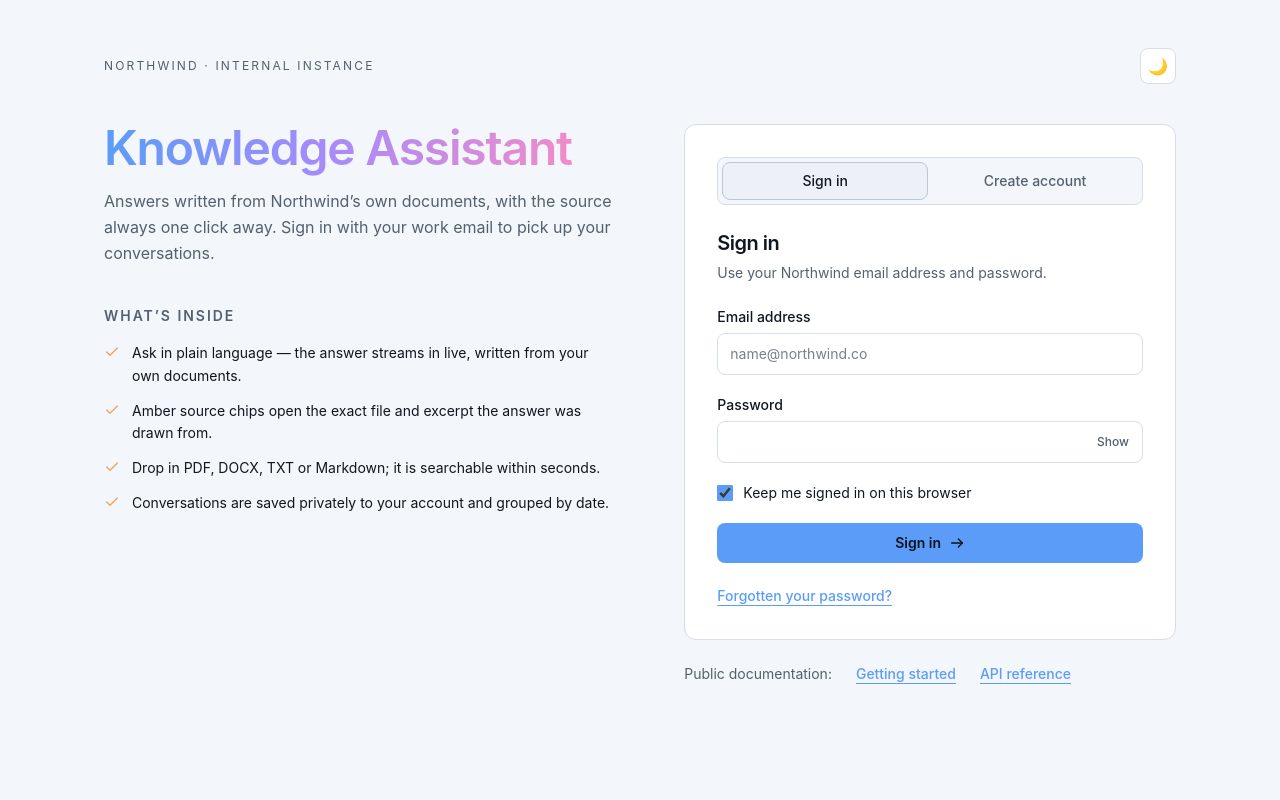
SignIn › AC-007/AC-013: renders the server's message verbatim, with no invented wording
In the field labelled "Email address": (930, 354) [717,333,1143,375], type "unknown@northwind.example"
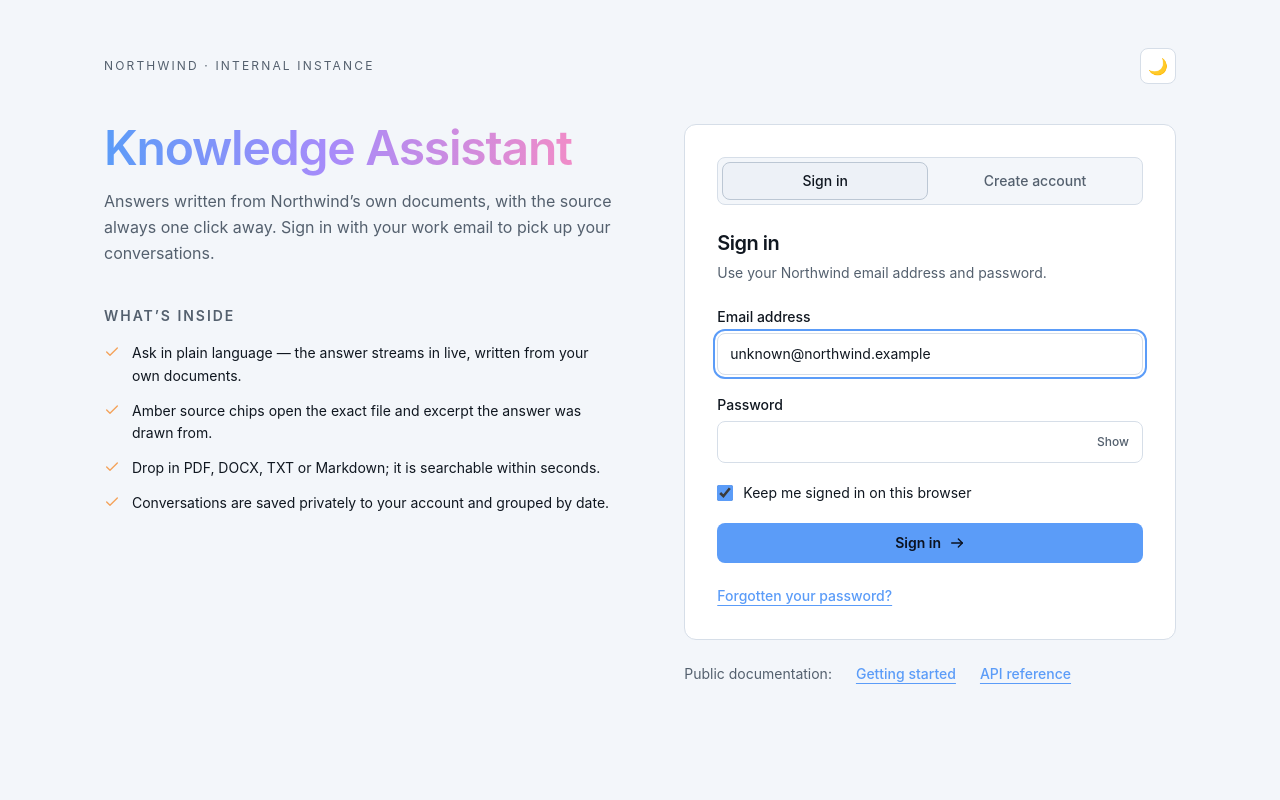
In the password field labelled "Password": (930, 442) [717,421,1143,463], type "whatever1234"
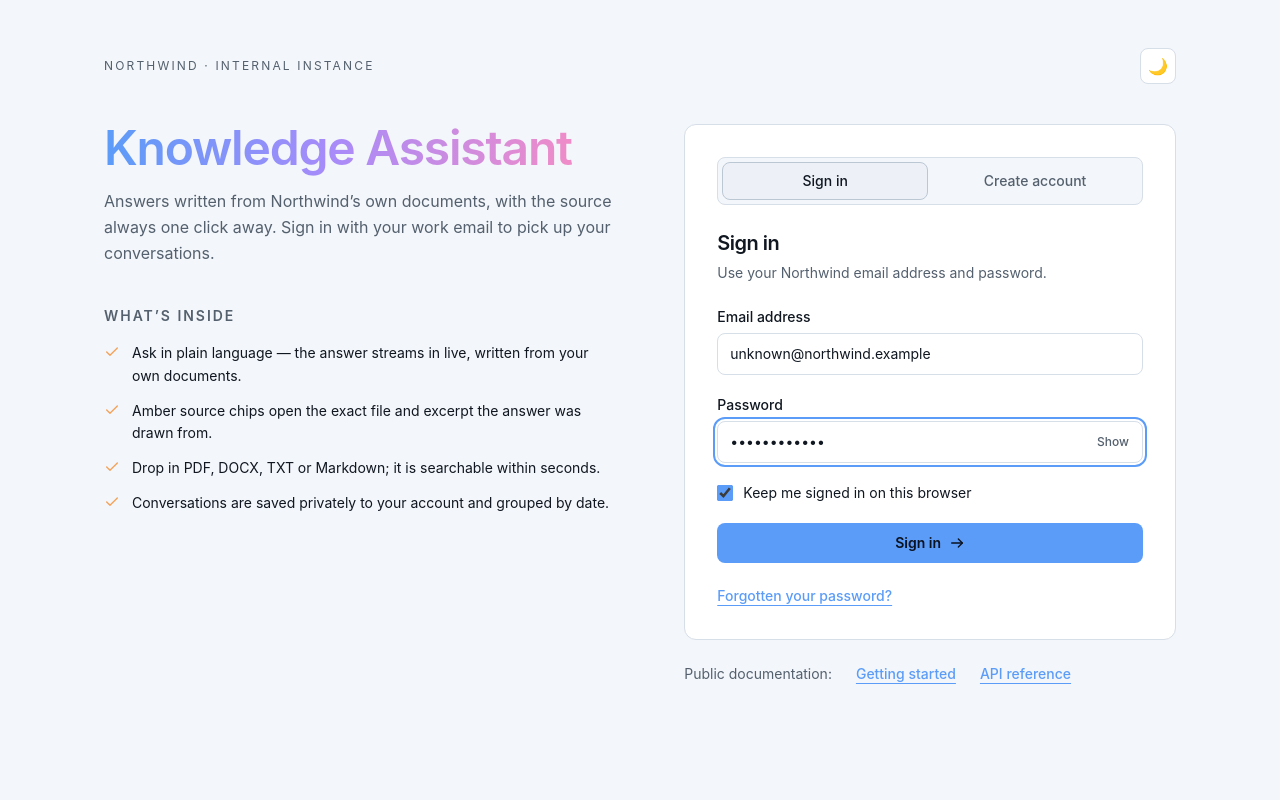
Click the button "Sign in": (930, 543) [717,523,1143,563]
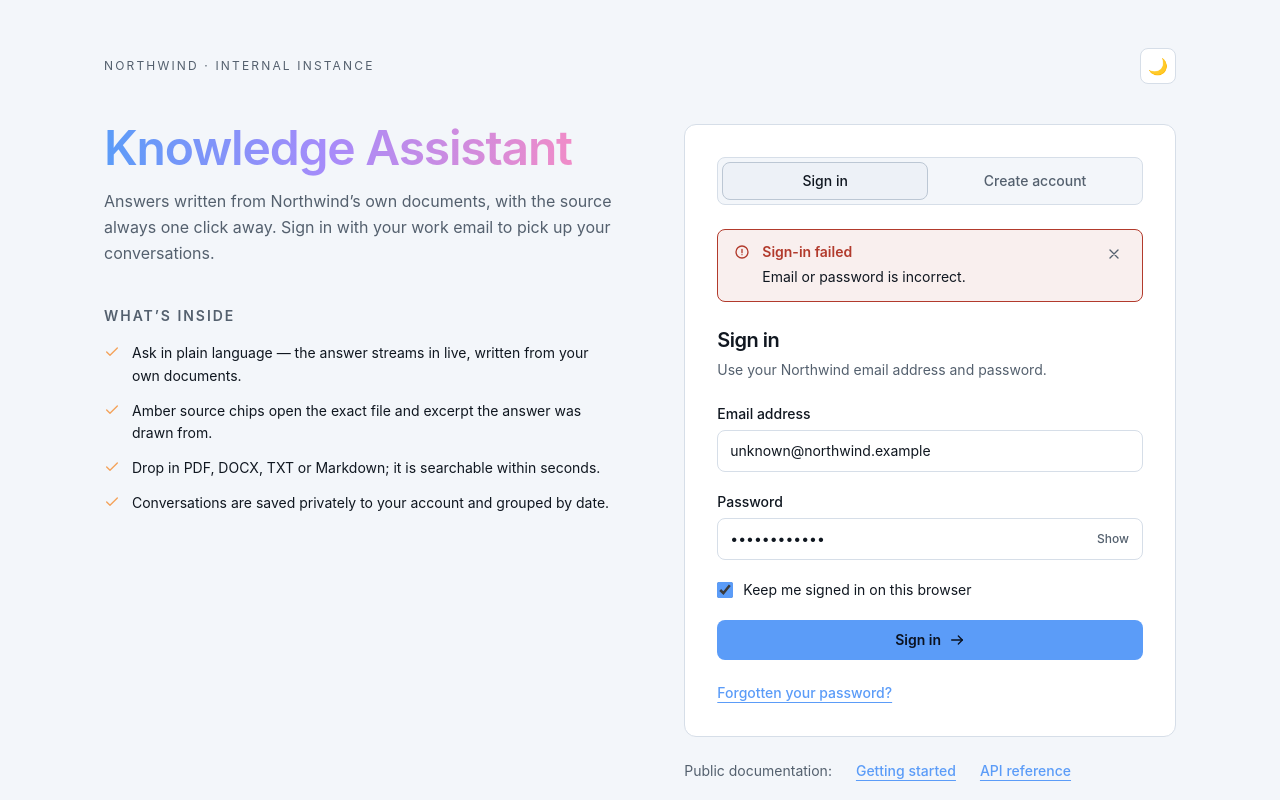
Expected: the message does not show "already exists", [717,229,1143,302]
Expected: the message shows "Email or password is incorrect.", [762,268,966,285]
